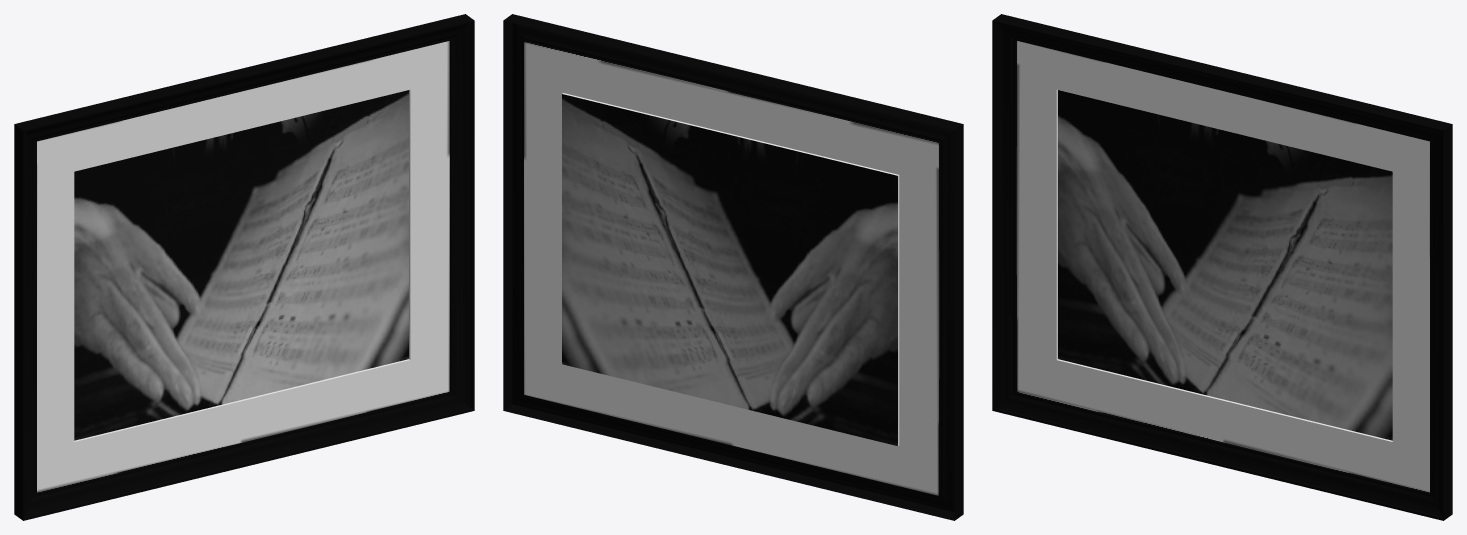
Rendered from HW_FramePhoto03.fbx.
3 views of the same model, side by side, from view 1: azimuth 30°, elevation 25°; view 2: azimuth 150°, elevation 25°; view 3: azimuth 330°, elevation 25° (orthographic).
Parts seen in each view (by area): view 1: HW_FramePhoto03; view 2: HW_FramePhoto03; view 3: HW_FramePhoto03.
Part boxes in pixels (bbox=[...]): HW_FramePhoto03: bbox=[14, 14, 474, 520]; HW_FramePhoto03: bbox=[503, 14, 963, 520]; HW_FramePhoto03: bbox=[992, 14, 1452, 520].
Size of the model in its own units: 1.15 by 0.95 by 0.04.
